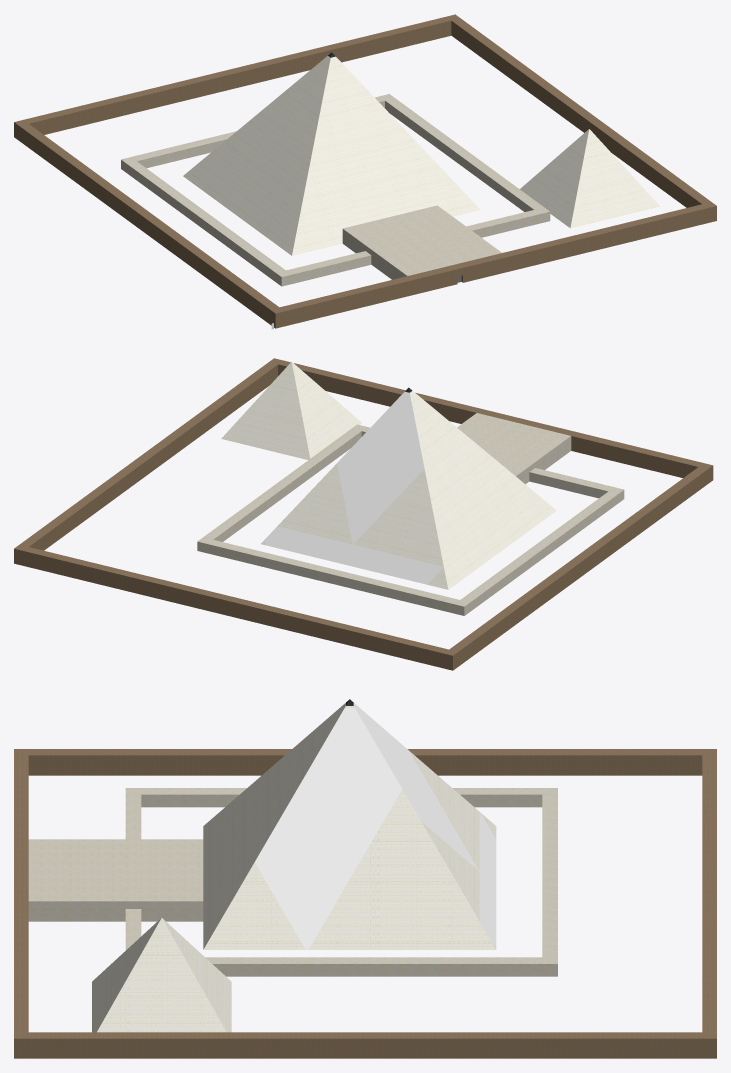
File: Khendjer_Pyramid.glb
The picture shows the model from 3 angles, top to bottom: view 1: azimuth 30°, elevation 25°; view 2: azimuth 150°, elevation 25°; view 3: azimuth 270°, elevation 25°; orthographic projection. The views are drawn at different scales.
Visible parts, largest first — view 1: Mesh1 Model, Mesh2 Model; view 2: Mesh1 Model, Mesh2 Model; view 3: Mesh1 Model, Mesh2 Model.
Boxes of the visible parts, left/top/right/bottom form: Mesh1 Model: left=14, top=14, right=716, bottom=328; Mesh2 Model: left=520, top=129, right=659, bottom=228; Mesh1 Model: left=14, top=358, right=713, bottom=670; Mesh2 Model: left=221, top=361, right=361, bottom=459; Mesh1 Model: left=14, top=699, right=716, bottom=1058; Mesh2 Model: left=92, top=918, right=231, bottom=1032.
Bounding box in the file's own units: 124 × 37.35 × 126.
Materials: 9 (7 with a texture image).
